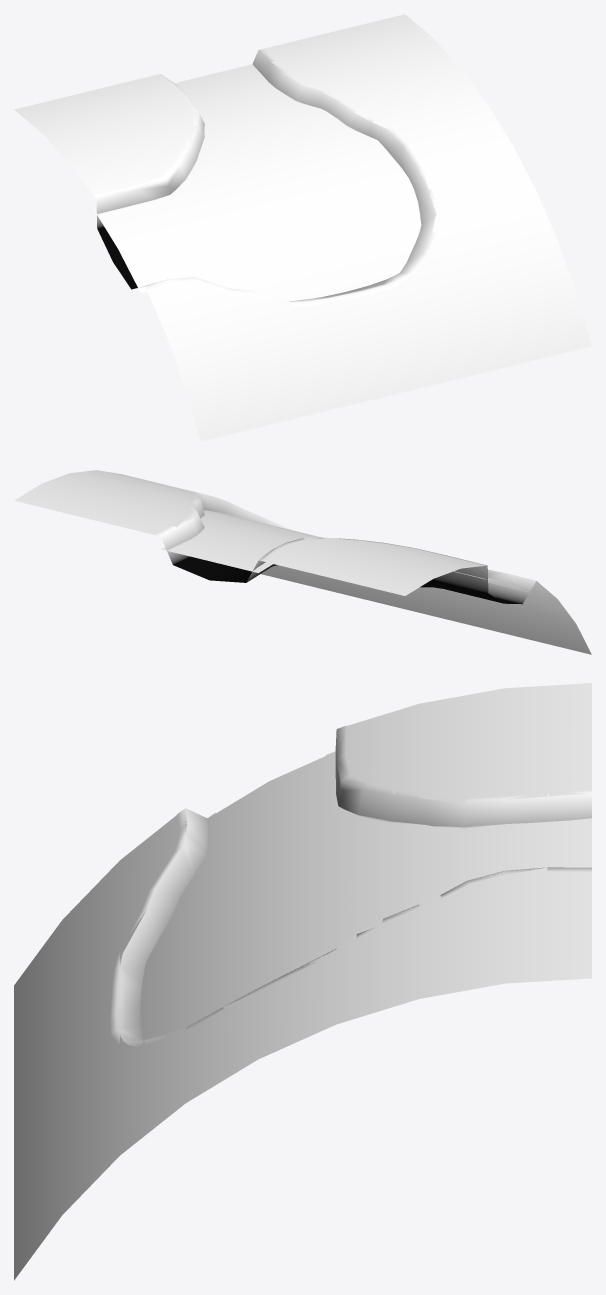
The model's file is grd_Rsw_P_0.dae.
3 views of the same model, one above another, from view 1: azimuth 30°, elevation 25°; view 2: azimuth 150°, elevation 25°; view 3: azimuth 270°, elevation 25° (orthographic). The views are drawn at different scales.
Visible parts, largest first — view 1: grass_1_0, river_2_0, cliff_river_0_0, river_edge_3_0; view 2: grass_1_0, cliff_river_0_0, river_2_0, river_edge_3_0; view 3: grass_1_0, river_2_0, cliff_river_0_0, river_edge_3_0.
Part boxes in pixels (x1,y1,x2,y2): grass_1_0: (14, 14, 591, 441); river_2_0: (94, 64, 420, 300); cliff_river_0_0: (93, 48, 440, 307); river_edge_3_0: (94, 65, 421, 301); grass_1_0: (14, 470, 591, 654); cliff_river_0_0: (155, 493, 538, 604); river_2_0: (161, 510, 531, 593); river_edge_3_0: (162, 511, 530, 593); grass_1_0: (14, 683, 591, 1280); river_2_0: (141, 752, 591, 1039); cliff_river_0_0: (110, 725, 591, 1050); river_edge_3_0: (140, 751, 591, 1039).
Bounding box in the file's own units: 512 × 244 × 423.
Materials: 4 (1 with a texture image).
